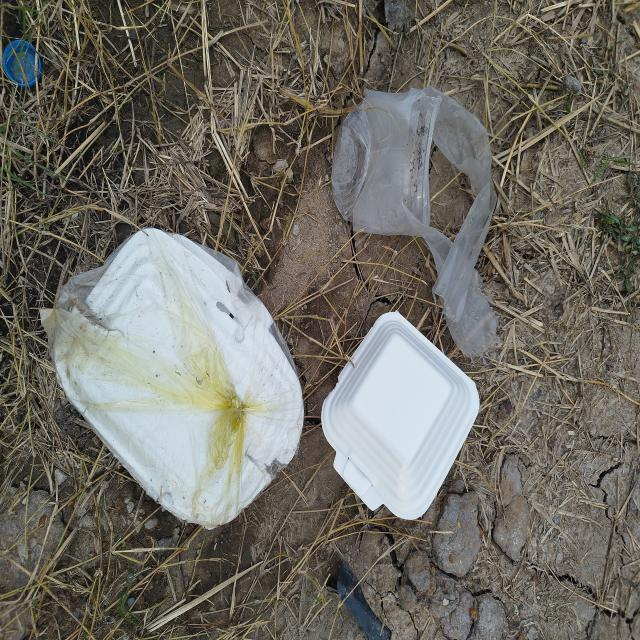bag: (334, 86, 498, 356)
foam box: (321, 313, 481, 522)
trash bag: (56, 228, 306, 527)
